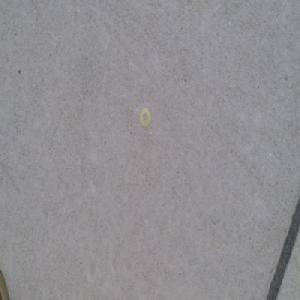Washer: (139, 108, 150, 129)
